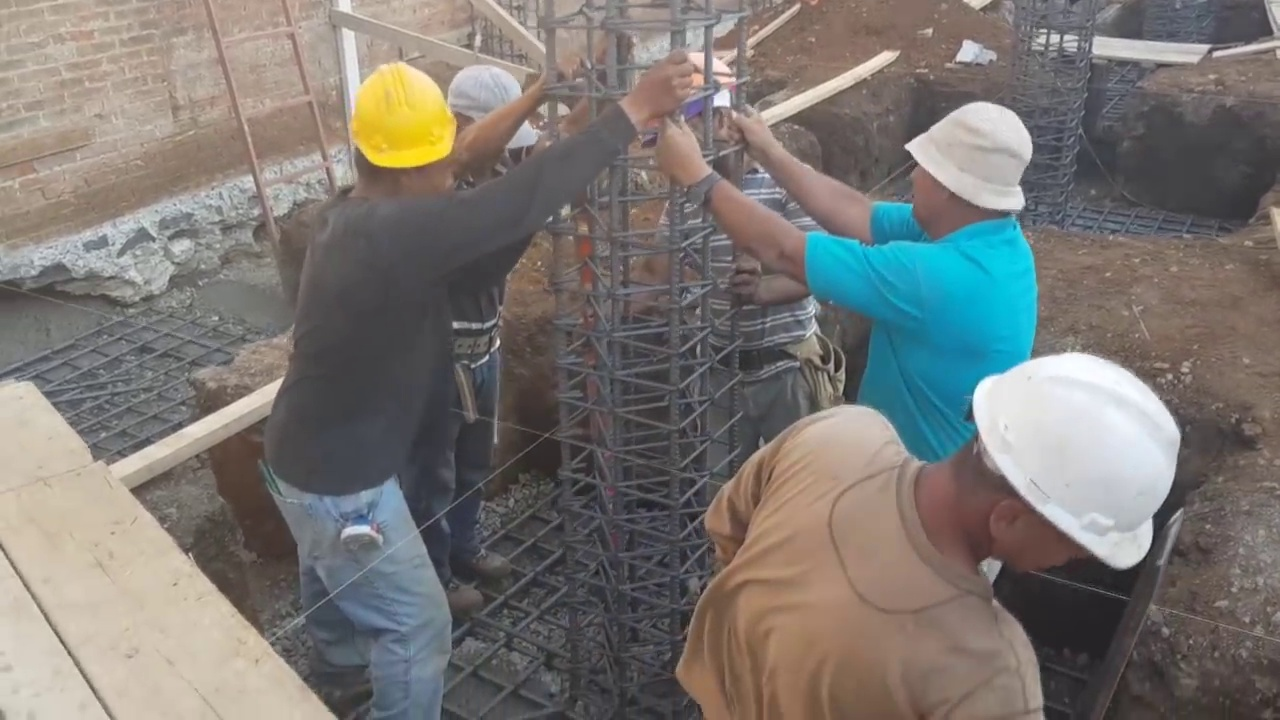helmet: (974, 368, 1191, 595), (348, 57, 459, 179), (668, 50, 733, 119)
helmet-off: (909, 94, 1043, 237), (445, 56, 533, 181)
helmet-on: (898, 365, 1188, 594), (334, 47, 460, 206), (662, 48, 753, 167)
person: (242, 47, 621, 679), (669, 366, 1184, 720), (640, 87, 1042, 471), (661, 40, 850, 506), (414, 54, 532, 618)
